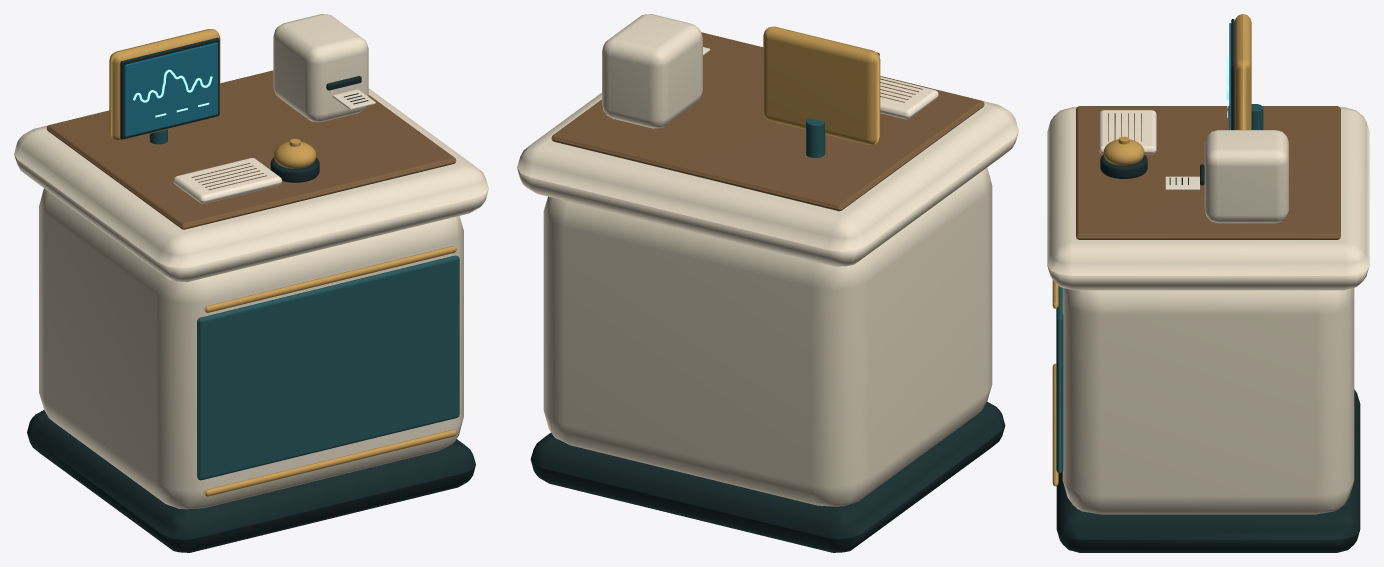
The model's file is reception.glb.
3 views of the same model, side by side, from view 1: azimuth 30°, elevation 25°; view 2: azimuth 150°, elevation 25°; view 3: azimuth 270°, elevation 25° (orthographic). The views are drawn at different scales.
Parts seen in each view (by area): view 1: ivory, teal, brown, dark, brass, display, paper; view 2: ivory, brown, dark, brass, paper, teal; view 3: ivory, brown, dark, brass, paper, teal.
Part boxes in pixels (x1=…): ivory: x1=14, y1=14, x2=488, y2=509; teal: x1=149, y1=129, x2=459, y2=480; brown: x1=46, y1=70, x2=456, y2=229; dark: x1=27, y1=37, x2=475, y2=552; brass: x1=109, y1=29, x2=456, y2=496; display: x1=124, y1=42, x2=217, y2=136; paper: x1=173, y1=89, x2=375, y2=203; ivory: x1=517, y1=14, x2=1018, y2=506; brown: x1=551, y1=32, x2=984, y2=211; dark: x1=530, y1=52, x2=1005, y2=552; brass: x1=763, y1=26, x2=880, y2=144; paper: x1=703, y1=47, x2=938, y2=119; teal: x1=806, y1=118, x2=825, y2=157; ivory: x1=1047, y1=107, x2=1369, y2=514; brown: x1=1076, y1=106, x2=1340, y2=239; dark: x1=1056, y1=19, x2=1360, y2=552; brass: x1=1052, y1=14, x2=1251, y2=486; paper: x1=1099, y1=110, x2=1199, y2=190; teal: x1=1056, y1=104, x2=1263, y2=473.
Size of the model in its own units: 0.95 by 1.2 by 0.84.
